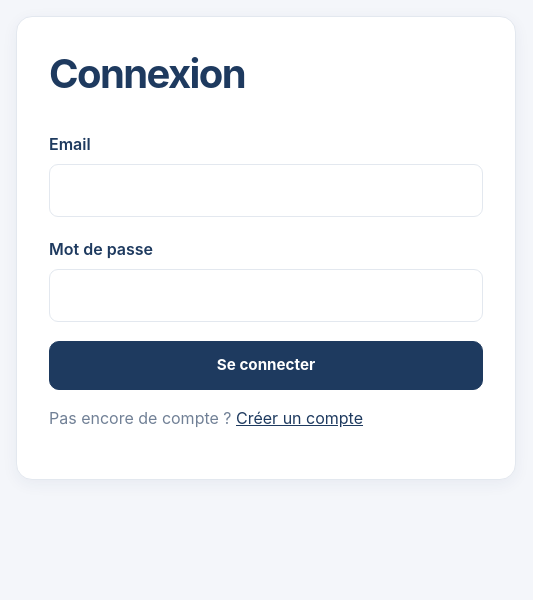
Test: LoginPage › affiche une erreur générique en cas d'erreur inattendue
This screenshot has width=533, height=600.
Type "jean@example.com" into the field labelled "Email". click: (266, 191)
box: [49, 164, 483, 217]
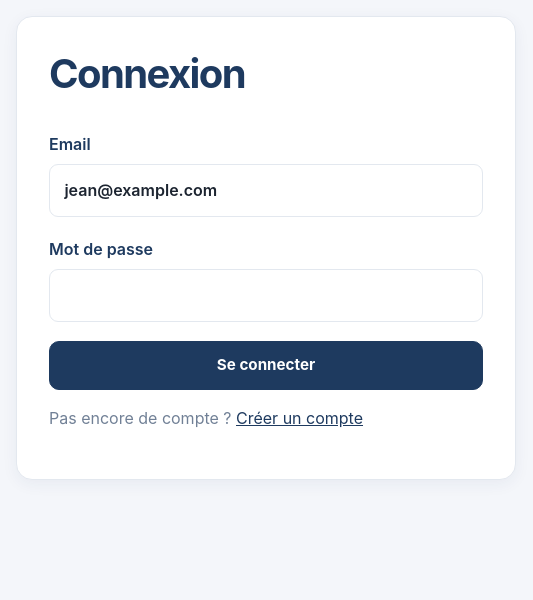
Type "password123" into the password field labelled "Mot de passe". click: (266, 295)
box: [49, 268, 483, 322]
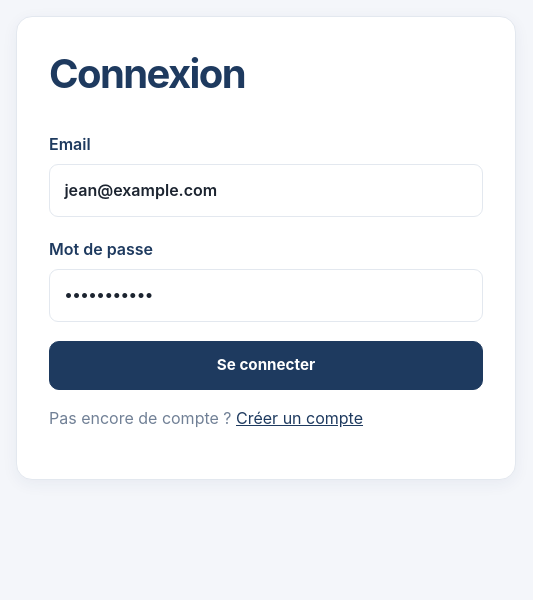
Click the button "Se connecter". click: (266, 365)
box: [49, 341, 483, 390]
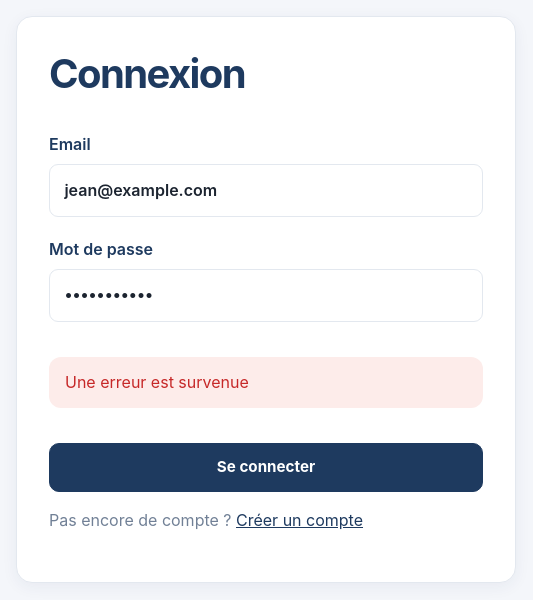
Now the message reads "Une erreur est survenue", box [65, 372, 249, 392]
